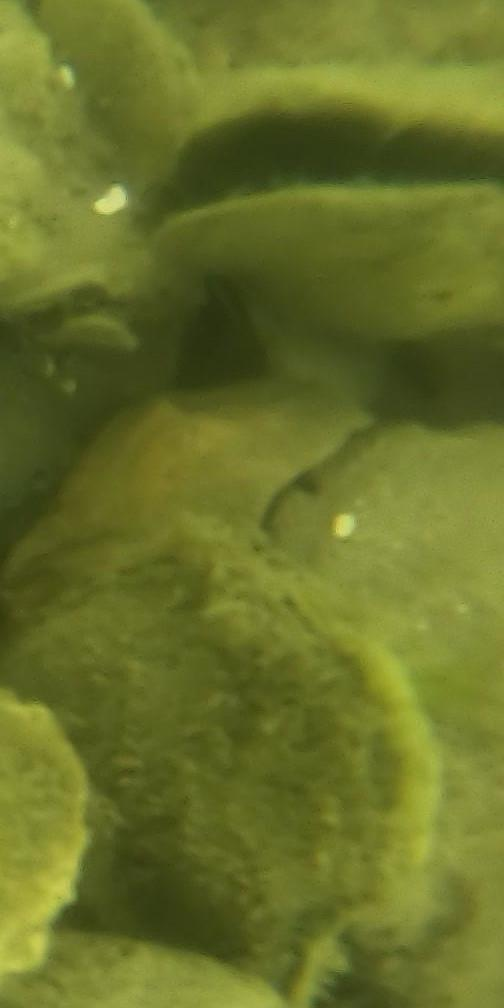3: (154, 62, 504, 342), (221, 298, 394, 414), (10, 274, 156, 350)
Oyster-Closed: (0, 518, 439, 1008), (32, 0, 205, 211)
Oyster-Open: (268, 419, 504, 1008), (0, 5, 186, 561), (3, 378, 365, 581), (0, 688, 82, 984), (0, 931, 298, 1008)
